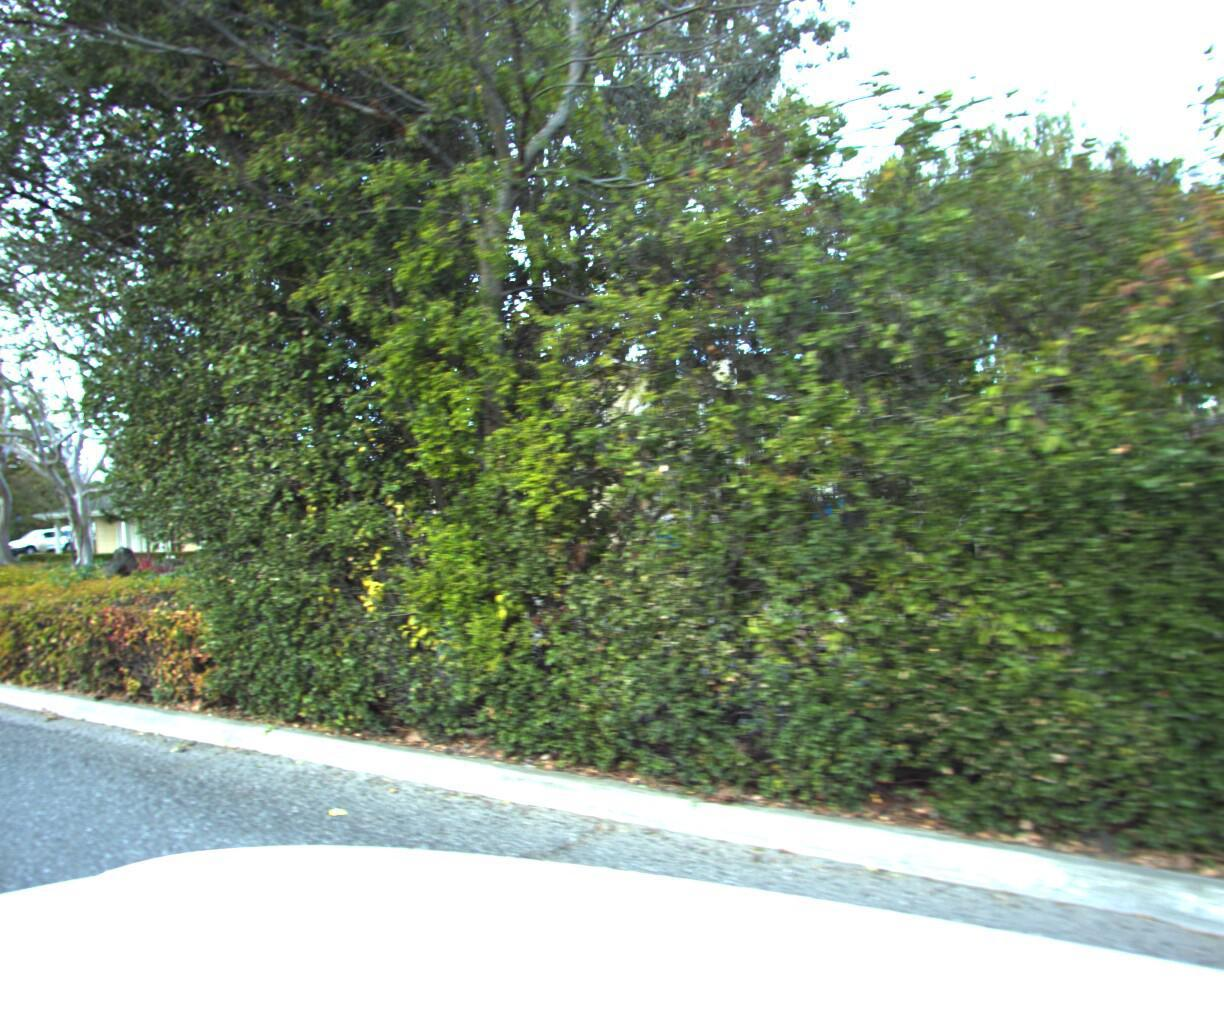car: (0, 522, 89, 553)
